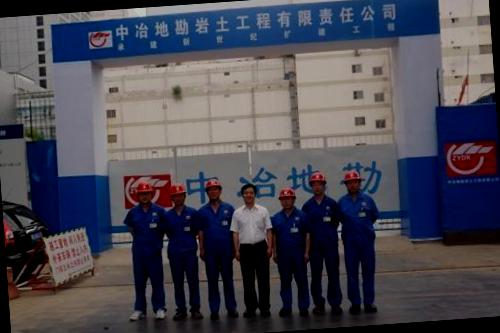helmet: (340, 169, 366, 188), (275, 186, 298, 206), (166, 182, 188, 200), (133, 181, 154, 198), (308, 171, 328, 188), (204, 177, 222, 194)
no_vest: (336, 192, 374, 246), (129, 202, 163, 258), (198, 202, 236, 252), (272, 210, 310, 258), (306, 194, 340, 247), (162, 208, 201, 253), (234, 203, 270, 245)
person: (120, 180, 172, 325), (335, 167, 380, 312), (231, 179, 274, 319), (302, 171, 342, 316), (198, 176, 238, 320), (164, 180, 204, 321), (268, 189, 310, 314)
